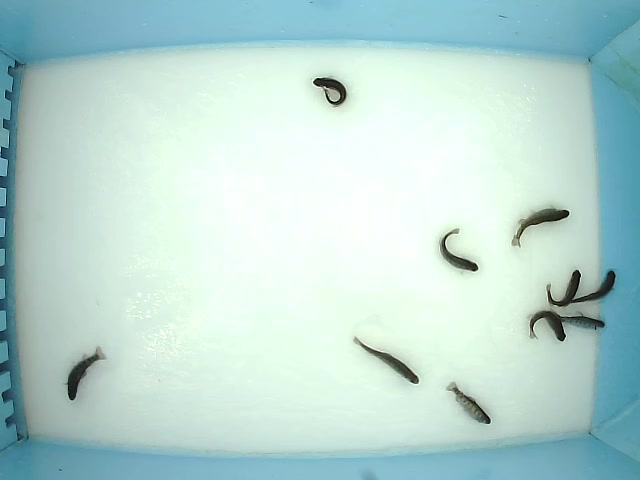fish: (351, 334, 421, 385), (510, 205, 571, 248), (63, 344, 108, 402), (444, 380, 492, 426), (438, 227, 479, 276), (571, 269, 617, 304), (545, 268, 582, 308), (526, 309, 566, 343), (312, 75, 348, 108), (554, 310, 607, 332)
